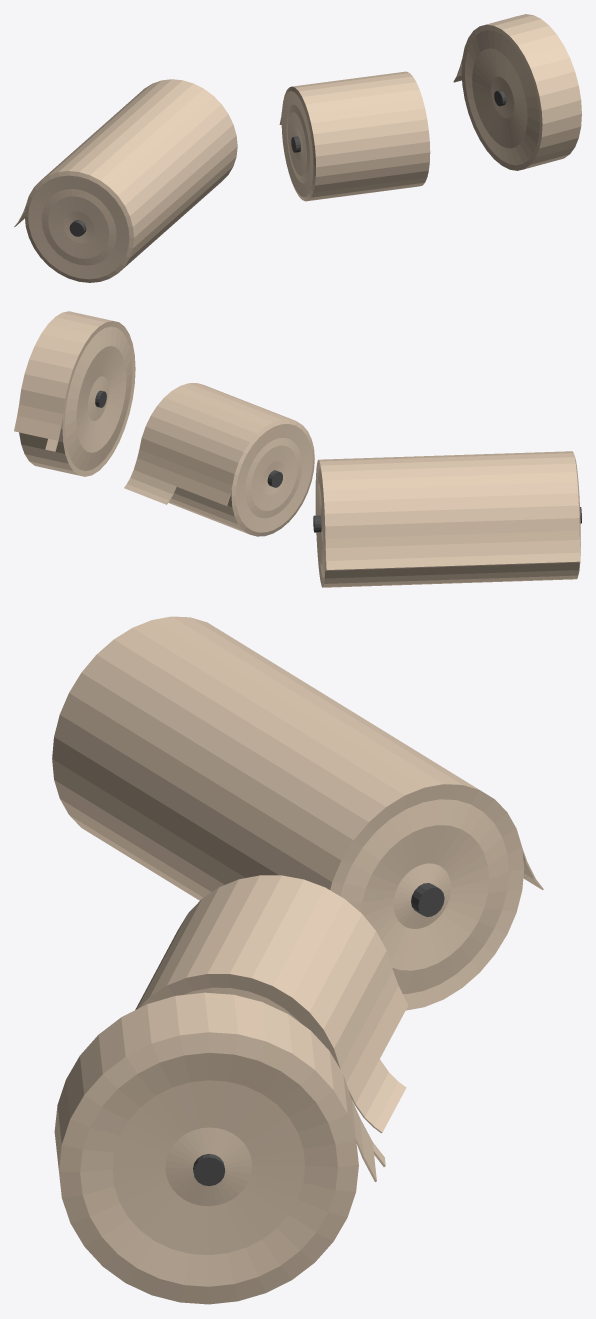
File: new new production-room-paperrolls-20-02-20.fbx
3 views of the same model, one above another, from view 1: azimuth 30°, elevation 25°; view 2: azimuth 150°, elevation 25°; view 3: azimuth 270°, elevation 25° (orthographic). The views are drawn at different scales.
Visible parts, largest first — view 1: PapierRol1, PapierRol2, PapierRol3; view 2: PapierRol1, PapierRol2, PapierRol3; view 3: PapierRol1, PapierRol3, PapierRol2.
Part boxes in pixels (x1,y1,x2,y2): PapierRol1: (14,79,237,282); PapierRol2: (279,71,430,201); PapierRol3: (453,14,581,170); PapierRol1: (313,451,581,587); PapierRol2: (124,383,314,536); PapierRol3: (14,311,135,476); PapierRol1: (52,616,543,1010); PapierRol3: (54,992,385,1304); PapierRol2: (135,875,408,1133).
Size of the model in its own units: 1012 by 255 by 418.
